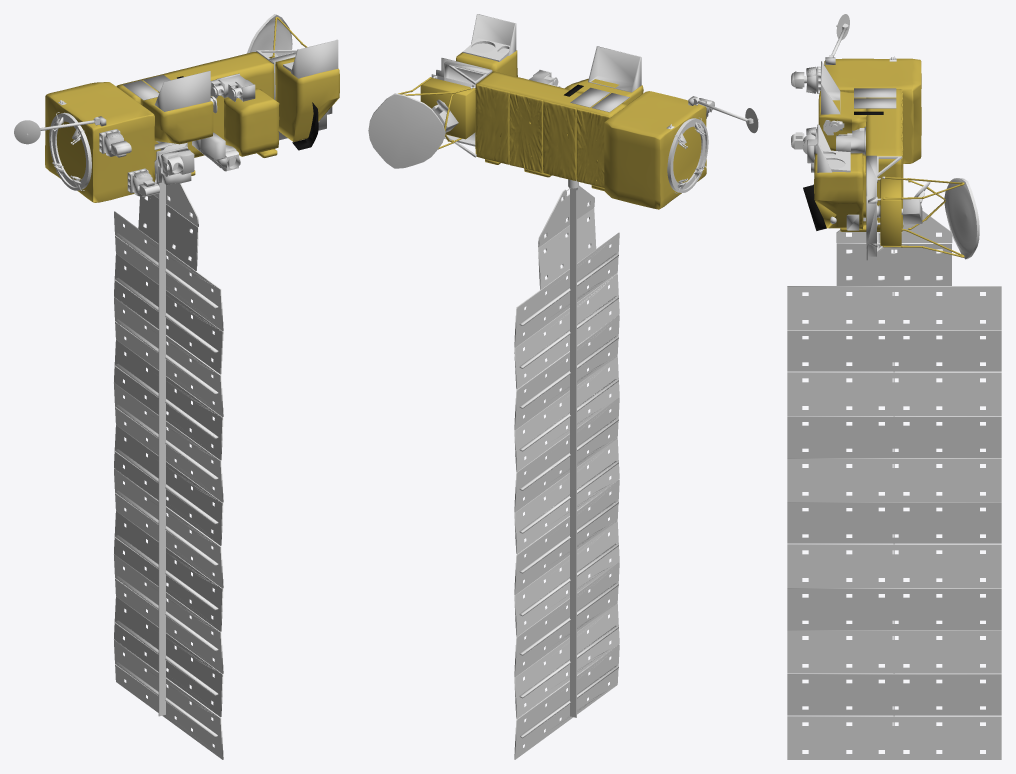
Rendered from Aqua_13.glb.
The picture shows the model from 3 angles, left to right: view 1: azimuth 30°, elevation 25°; view 2: azimuth 150°, elevation 25°; view 3: azimuth 270°, elevation 25°; orthographic projection. The views are drawn at different scales.
Parts seen in each view (by area): view 1: tex_01, foil_gold, foil_silver, shiny_panel; view 2: tex_01, foil_gold, gold_2, foil_silver, shiny_panel; view 3: shiny_panel, foil_gold, tex_01, foil_silver, black_krinkle.
Part boxes in pixels (box(x1,y1,x2,y2)): tex_01: box(14, 14, 319, 759); foil_gold: box(45, 17, 339, 202); foil_silver: box(98, 39, 338, 196); shiny_panel: box(114, 211, 223, 759); tex_01: box(368, 38, 758, 759); foil_gold: box(398, 50, 706, 209); gold_2: box(476, 84, 610, 187); foil_silver: box(431, 14, 711, 140); shiny_panel: box(514, 232, 619, 759); shiny_panel: box(787, 286, 1001, 759); foil_gold: box(814, 58, 964, 257); tex_01: box(791, 14, 985, 754); foil_silver: box(795, 57, 922, 260); black_krinkle: box(803, 111, 883, 230).
Bounding box in the file's own units: 9.4 × 17.78 × 5.08.
